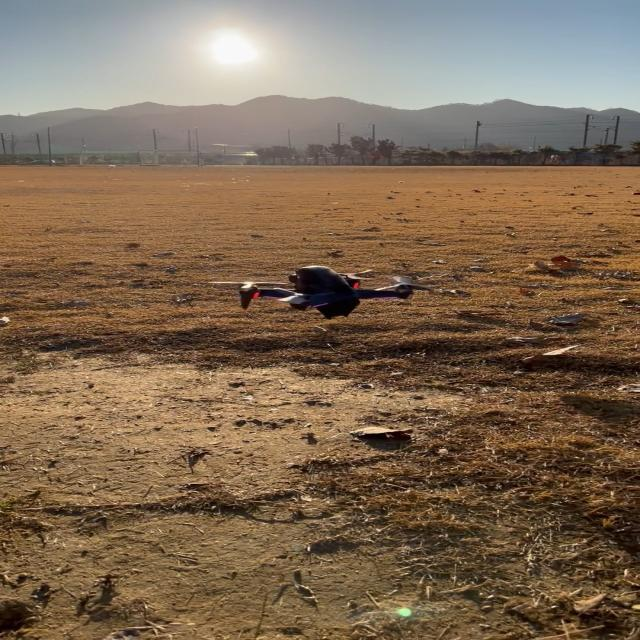drone: (206, 264, 432, 320)
